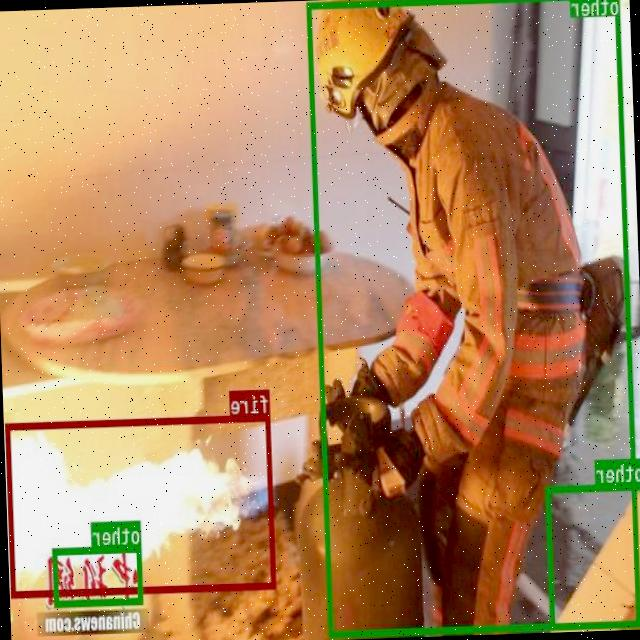fire: (6, 413, 278, 597)
